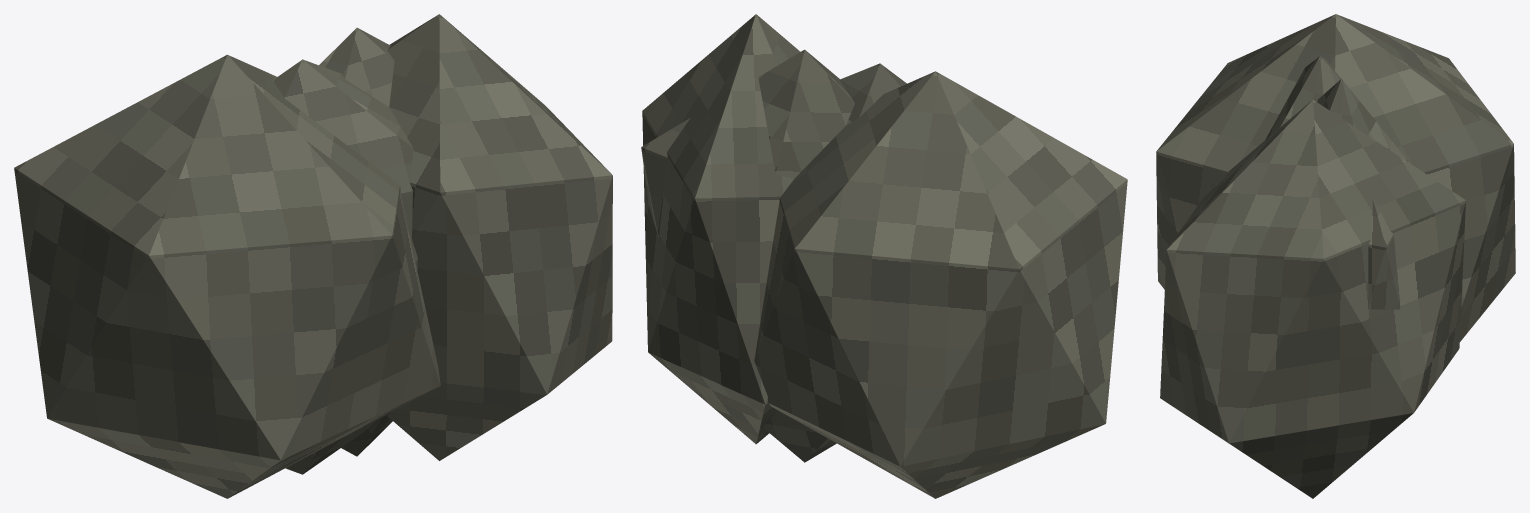
The model's file is ruin_63.glb.
3 views of the same model, side by side, from view 1: azimuth 30°, elevation 25°; view 2: azimuth 150°, elevation 25°; view 3: azimuth 270°, elevation 25° (orthographic). The views are drawn at different scales.
Visible parts, largest first — view 1: WeatheredStone, WeatheredStone.003, WeatheredStone.001, WeatheredStone.002; view 2: WeatheredStone, WeatheredStone.003, WeatheredStone.002, WeatheredStone.001; view 3: WeatheredStone.003, WeatheredStone, WeatheredStone.002, WeatheredStone.001.
Boxes of the visible parts, x1,y1,x2,y2 form: WeatheredStone: [14, 54, 440, 498]; WeatheredStone.003: [387, 14, 612, 460]; WeatheredStone.001: [273, 59, 417, 474]; WeatheredStone.002: [319, 27, 394, 456]; WeatheredStone: [754, 71, 1127, 498]; WeatheredStone.003: [642, 14, 800, 444]; WeatheredStone.002: [641, 49, 854, 462]; WeatheredStone.001: [839, 63, 906, 125]; WeatheredStone.003: [1160, 100, 1465, 498]; WeatheredStone: [1156, 14, 1515, 342]; WeatheredStone.002: [1317, 79, 1409, 309]; WeatheredStone.001: [1265, 56, 1340, 139].
Size of the model in its own units: 3.41 by 2.9 by 2.36.
Materials: 1 (1 with a texture image).
